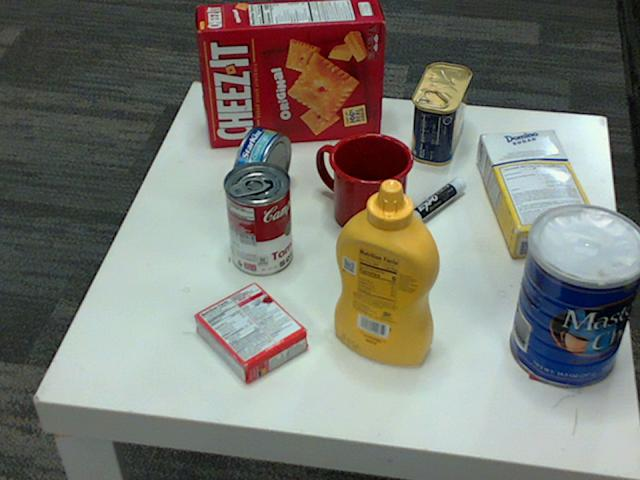cracker_box: (197, 0, 383, 144)
gelatin_box: (191, 281, 303, 385)
large_marker: (391, 180, 466, 238)
master_chef_can: (511, 205, 639, 389)
mug: (316, 131, 413, 233)
mustard_bottle: (334, 180, 440, 366)
potted_meat_can: (410, 64, 469, 165)
sugar_box: (477, 130, 600, 258)
tomato_soup_can: (223, 161, 292, 276)
tuna_fish_can: (231, 126, 290, 204)
